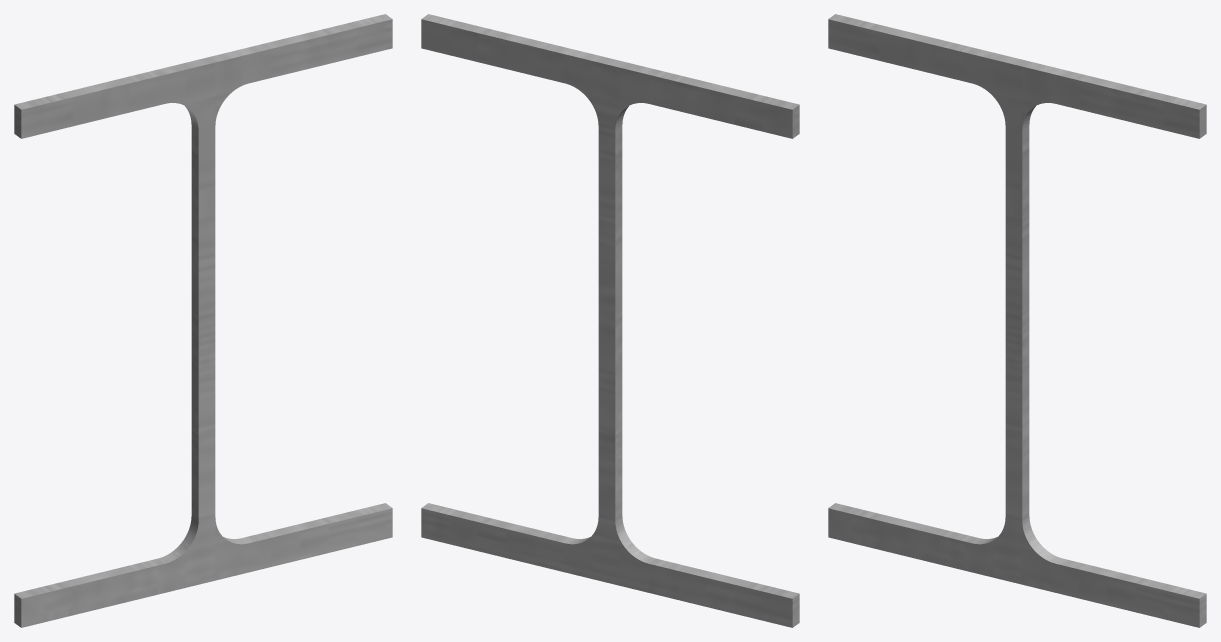
The model's file is HEB400.glb.
3 views of the same model, side by side, from view 1: azimuth 30°, elevation 25°; view 2: azimuth 150°, elevation 25°; view 3: azimuth 330°, elevation 25° (orthographic).
Size of the model in its own units: 30 by 40 by 1.
Materials: 1 (1 with a texture image).
